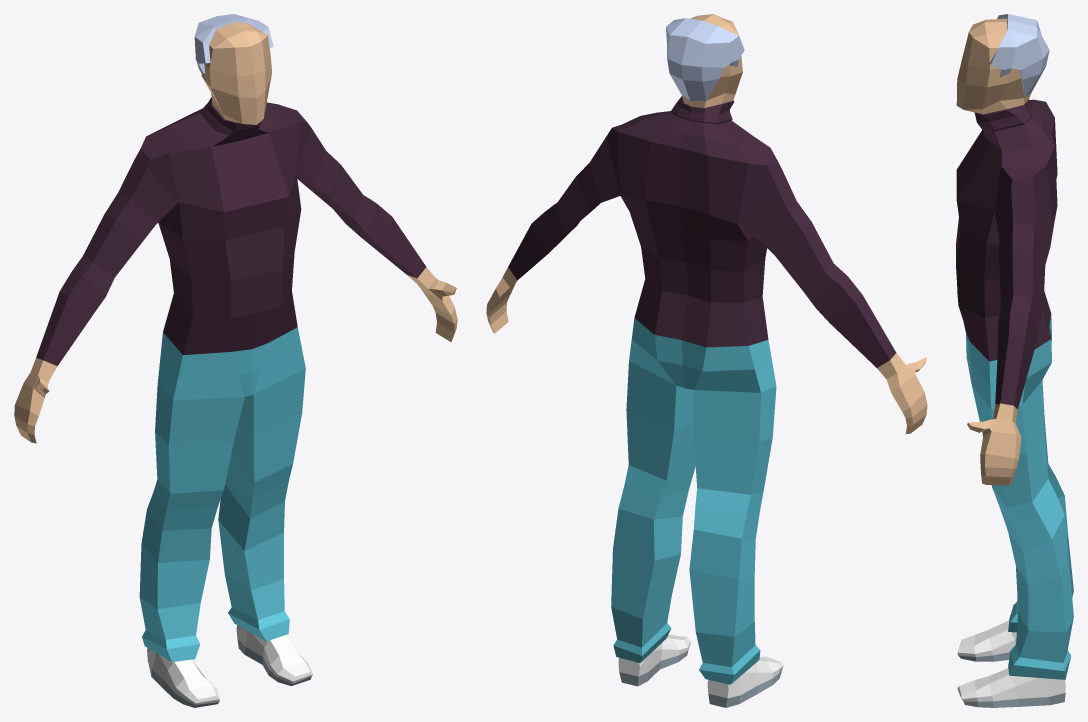
The model's file is male_02_b.fbx.
3 renders of one model, left to right at view 1: azimuth 30°, elevation 25°; view 2: azimuth 150°, elevation 25°; view 3: azimuth 270°, elevation 25°, orthographic.
Parts seen in each view (by area): view 1: male_02_b; view 2: male_02_b; view 3: male_02_b.
Part boxes in pixels (x1=…): male_02_b: x1=14, y1=14, x2=457, y2=707; male_02_b: x1=486, y1=14, x2=927, y2=707; male_02_b: x1=956, y1=14, x2=1073, y2=707.
Size of the model in its own units: 127 by 186 by 30.2.
